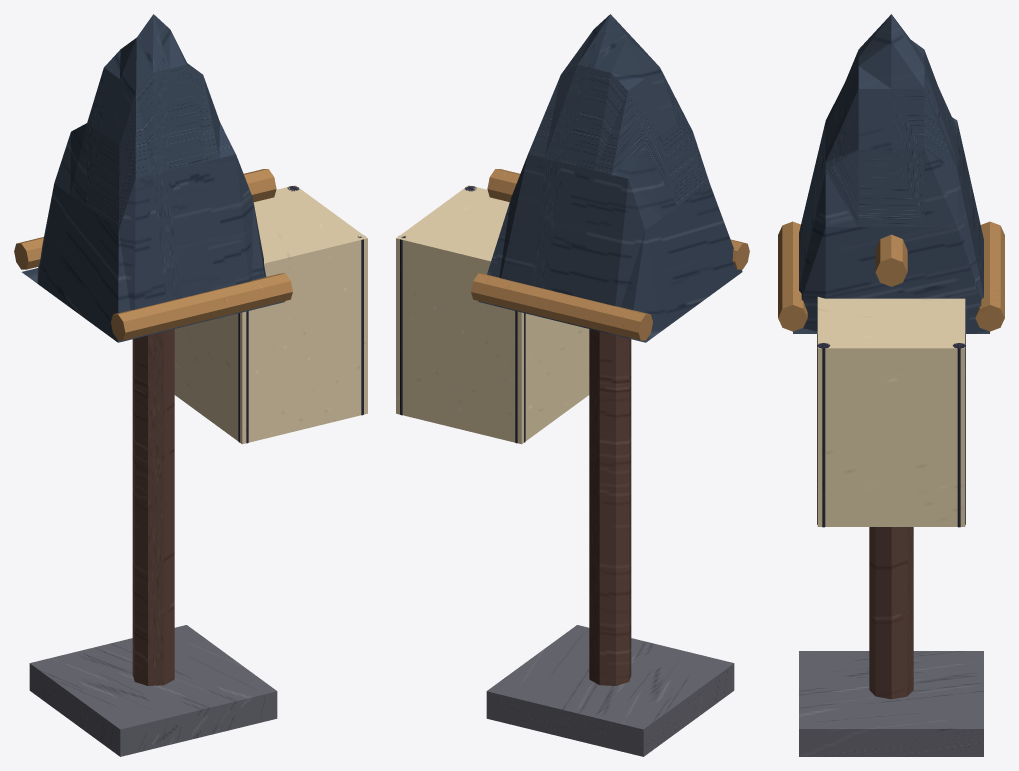
Rendered from shogun_street_lantern.obj.
The picture shows the model from 3 angles, left to right: view 1: azimuth 30°, elevation 25°; view 2: azimuth 150°, elevation 25°; view 3: azimuth 270°, elevation 25°; orthographic projection.
Visible parts, largest first — view 1: geometry_4, geometry_3, geometry_0, geometry_1, geometry_6, geometry_2, geometry_5, geometry_8; view 2: geometry_4, geometry_3, geometry_0, geometry_1, geometry_5, geometry_2, geometry_7; view 3: geometry_4, geometry_3, geometry_0, geometry_1, geometry_6, geometry_5, geometry_2, geometry_9, geometry_10.
Boxes of the visible parts, bbox=[...] form: geometry_4: bbox=[22, 14, 285, 342]; geometry_3: bbox=[174, 185, 367, 444]; geometry_0: bbox=[29, 625, 277, 756]; geometry_1: bbox=[132, 329, 174, 685]; geometry_6: bbox=[111, 273, 292, 340]; geometry_2: bbox=[244, 169, 276, 202]; geometry_5: bbox=[14, 237, 43, 269]; geometry_8: bbox=[238, 311, 248, 443]; geometry_4: bbox=[478, 14, 742, 342]; geometry_3: bbox=[396, 185, 589, 444]; geometry_0: bbox=[486, 625, 734, 756]; geometry_1: bbox=[589, 329, 631, 685]; geometry_5: bbox=[471, 273, 652, 340]; geometry_2: bbox=[487, 169, 519, 201]; geometry_7: bbox=[515, 311, 525, 443]; geometry_4: bbox=[793, 14, 989, 333]; geometry_3: bbox=[817, 297, 965, 526]; geometry_0: bbox=[799, 651, 983, 756]; geometry_1: bbox=[869, 527, 913, 699]; geometry_6: bbox=[778, 221, 807, 331]; geometry_5: bbox=[975, 221, 1004, 331]; geometry_2: bbox=[875, 234, 907, 286]; geometry_9: bbox=[952, 343, 965, 527]; geometry_10: bbox=[817, 343, 830, 527].
Size of the model in its own units: 2.51 by 6.3 by 1.84.
Materials: 6 (6 with a texture image).
